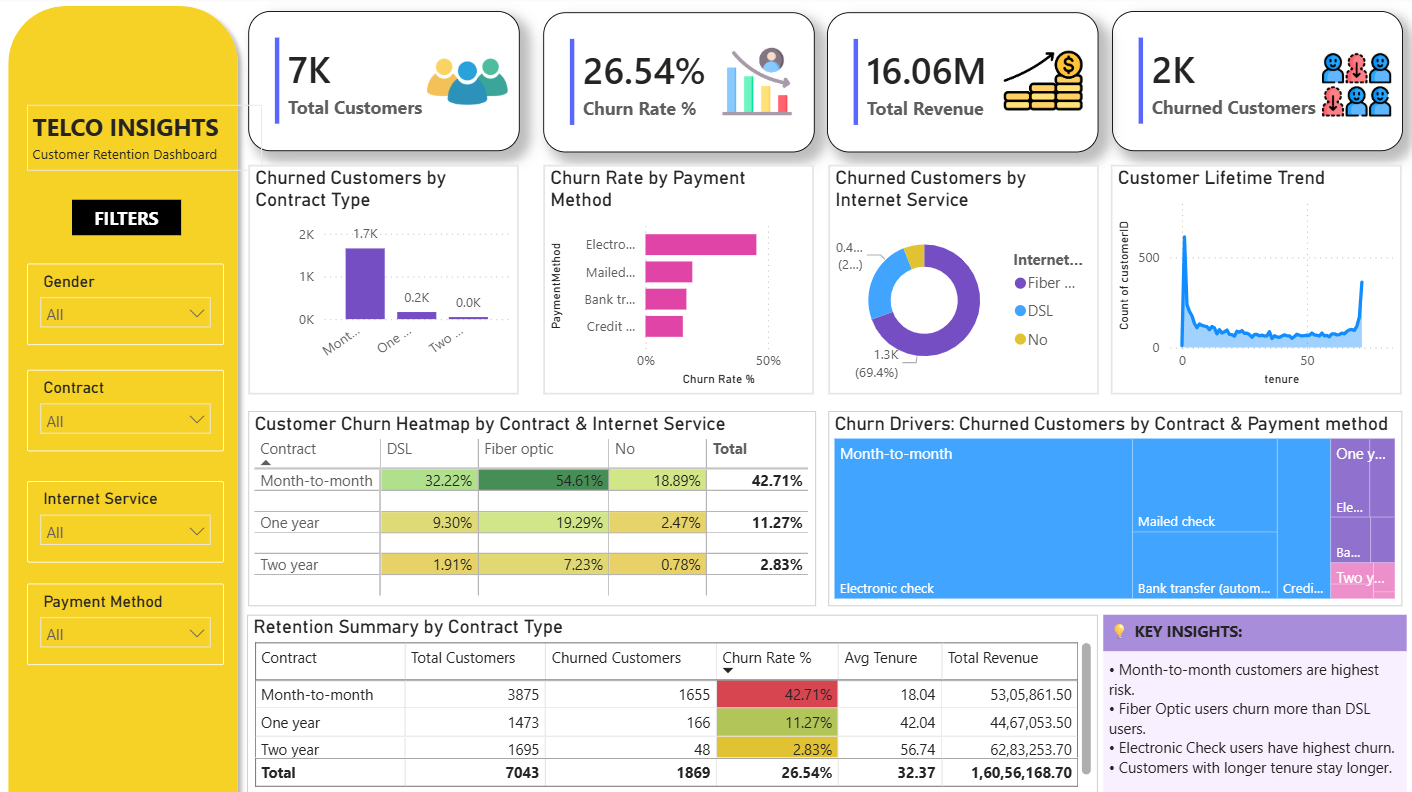

This screenshot's page, from the dashboard's own definition file:
{"tool":"powerbi","page":{"name":"Page 1","canvas":[1280,720],"ordinal":0},"visuals":[{"type":"shape","box":[1.2,0,225,800],"z":0},{"type":"cardVisual","title":"Total Customers","fields":{"Data":["Telco_Customer_churn_Dataset.Total Customers"]},"box":[226.2,13.8,245,126.2],"z":1000},{"type":"cardVisual","fields":{"Data":["Telco_Customer_churn_Dataset.Churned Customers"]},"box":[1005,13.8,262.5,126.2],"z":2000},{"type":"cardVisual","fields":{"Data":["Telco_Customer_churn_Dataset.Churn Rate %"]},"box":[492.5,15,245,126.2],"z":3000},{"type":"cardVisual","fields":{"Data":["Telco_Customer_churn_Dataset.Total Revenue"]},"box":[748.8,15,245,126.2],"z":4000},{"type":"image","box":[387.5,36.2,72.5,82.5],"z":5000},{"type":"image","box":[640,43.8,90,66.2],"z":6000},{"type":"image","box":[1195,47.5,62.5,66.2],"z":7000},{"type":"image","box":[901.2,40,83.8,73.8],"z":8000},{"type":"textbox","box":[26.9,98.2,212.5,59.2],"z":9000},{"type":"textbox","box":[26.9,127.8,258.2,48.4],"z":10000},{"type":"textbox","box":[67.2,184.2,98.2,32.3],"z":11000},{"type":"slicer","fields":{"Values":["Telco_Customer_churn_Dataset.gender"]},"box":[26.9,240.7,177.5,74],"z":12000},{"type":"slicer","fields":{"Values":["Telco_Customer_churn_Dataset.Contract"]},"box":[26.9,337.6,177.5,74],"z":13000},{"type":"slicer","fields":{"Values":["Telco_Customer_churn_Dataset.InternetService"]},"box":[26.9,437.1,177.5,74],"z":14000},{"type":"slicer","fields":{"Values":["Telco_Customer_churn_Dataset.PaymentMethod"]},"box":[26.9,529.9,177.5,74],"z":15000},{"type":"clusteredColumnChart","title":"Churned Customers by Contract Type","fields":{"Category":["Telco_Customer_churn_Dataset.Contract"],"Y":["CountNonNull(Telco_Customer_churn_Dataset.customerID)"]},"box":[226.4,152.3,244.3,207.2],"z":16000},{"type":"clusteredBarChart","title":"Churn Rate by Payment Method","fields":{"Category":["Telco_Customer_churn_Dataset.PaymentMethod"],"Y":["Telco_Customer_churn_Dataset.Churn Rate %"]},"box":[492.6,152.3,244.3,207.2],"z":17000},{"type":"donutChart","title":"Churned Customers by Internet Service","fields":{"Category":["Telco_Customer_churn_Dataset.InternetService"],"Y":["CountNonNull(Telco_Customer_churn_Dataset.customerID)"]},"box":[749.2,152.3,244.3,207.2],"z":18000},{"type":"areaChart","title":"Customer Lifetime Trend","fields":{"Category":["Telco_Customer_churn_Dataset.tenure"],"Y":["CountNonNull(Telco_Customer_churn_Dataset.customerID)"]},"box":[1004.5,152.3,262.1,207.2],"z":19000},{"type":"pivotTable","title":"Customer Churn Heatmap by Contract & Internet Service","fields":{"Rows":["Telco_Customer_churn_Dataset.Contract"],"Columns":["Telco_Customer_churn_Dataset.InternetService"],"Values":["Telco_Customer_churn_Dataset.Churn Rate %"]},"box":[226.6,374.2,511.7,175.8],"z":20000},{"type":"treemap","title":"Churn Drivers: Churned Customers by Contract & Payment method","fields":{"Group":["Telco_Customer_churn_Dataset.Contract"],"Details":["Telco_Customer_churn_Dataset.PaymentMethod"],"Values":["CountNonNull(Telco_Customer_churn_Dataset.customerID)"]},"box":[749.2,374.6,517.3,175.6],"z":21000},{"type":"tableEx","title":"Retention Summary by Contract Type","fields":{"Values":["Telco_Customer_churn_Dataset.Contract","Telco_Customer_churn_Dataset.Total Customers","Telco_Customer_churn_Dataset.Churned Customers","Telco_Customer_churn_Dataset.Churn Rate %","Telco_Customer_churn_Dataset.Avg Tenure","Telco_Customer_churn_Dataset.Total Revenue"]},"box":[225.4,557.9,767.6,161.2],"z":22000},{"type":"textbox","box":[997.5,557.9,273.9,161.2],"z":23000},{"type":"textbox","box":[997.5,557.9,273.9,32.7],"z":25000}]}

Visuals, with their boxes in screenshot pixels (x1, y1, x2, y2), scaled from the page's 1280x720 canvas onto the 1412x792 screenshot:
shape: (1, 0, 250, 791)
"Total Customers" cardVisual: (250, 15, 520, 154)
cardVisual - Telco_Customer_churn_Dataset.Churned Customers: (1109, 15, 1398, 154)
cardVisual - Telco_Customer_churn_Dataset.Churn Rate %: (543, 16, 814, 155)
cardVisual - Telco_Customer_churn_Dataset.Total Revenue: (826, 16, 1096, 155)
image: (427, 40, 507, 131)
image: (706, 48, 805, 121)
image: (1318, 52, 1387, 125)
image: (994, 44, 1087, 125)
textbox: (30, 108, 264, 173)
textbox: (30, 141, 315, 194)
textbox: (74, 203, 182, 238)
slicer - Telco_Customer_churn_Dataset.gender: (30, 265, 225, 346)
slicer - Telco_Customer_churn_Dataset.Contract: (30, 371, 225, 453)
slicer - Telco_Customer_churn_Dataset.InternetService: (30, 481, 225, 562)
slicer - Telco_Customer_churn_Dataset.PaymentMethod: (30, 583, 225, 664)
"Churned Customers by Contract Type" clusteredColumnChart: (250, 168, 519, 395)
"Churn Rate by Payment Method" clusteredBarChart: (543, 168, 813, 395)
"Churned Customers by Internet Service" donutChart: (826, 168, 1096, 395)
"Customer Lifetime Trend" areaChart: (1108, 168, 1397, 395)
"Customer Churn Heatmap by Contract & Internet Service" pivotTable: (250, 412, 814, 605)
"Churn Drivers: Churned Customers by Contract & Payment method" treemap: (826, 412, 1397, 605)
"Retention Summary by Contract Type" tableEx: (249, 614, 1095, 791)
textbox: (1100, 614, 1403, 791)
textbox: (1100, 614, 1403, 650)
